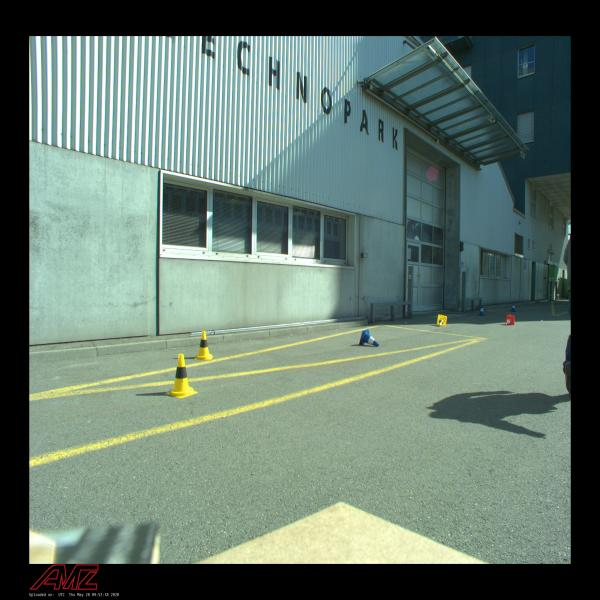blue_cone: (359, 329, 379, 347), (479, 305, 485, 316), (511, 303, 516, 312)
orange_cone: (506, 314, 514, 326)
yellow_cone: (165, 354, 198, 398), (194, 331, 213, 360), (437, 314, 447, 327)
